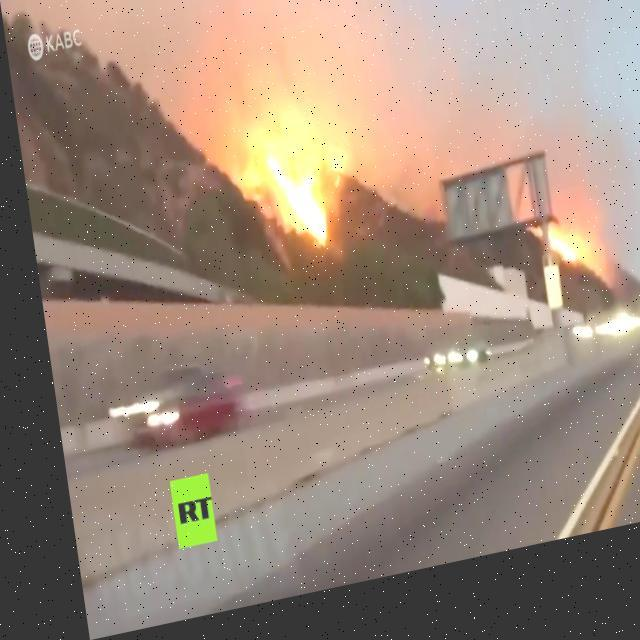Fire: (220, 115, 347, 276), (539, 247, 576, 289)
